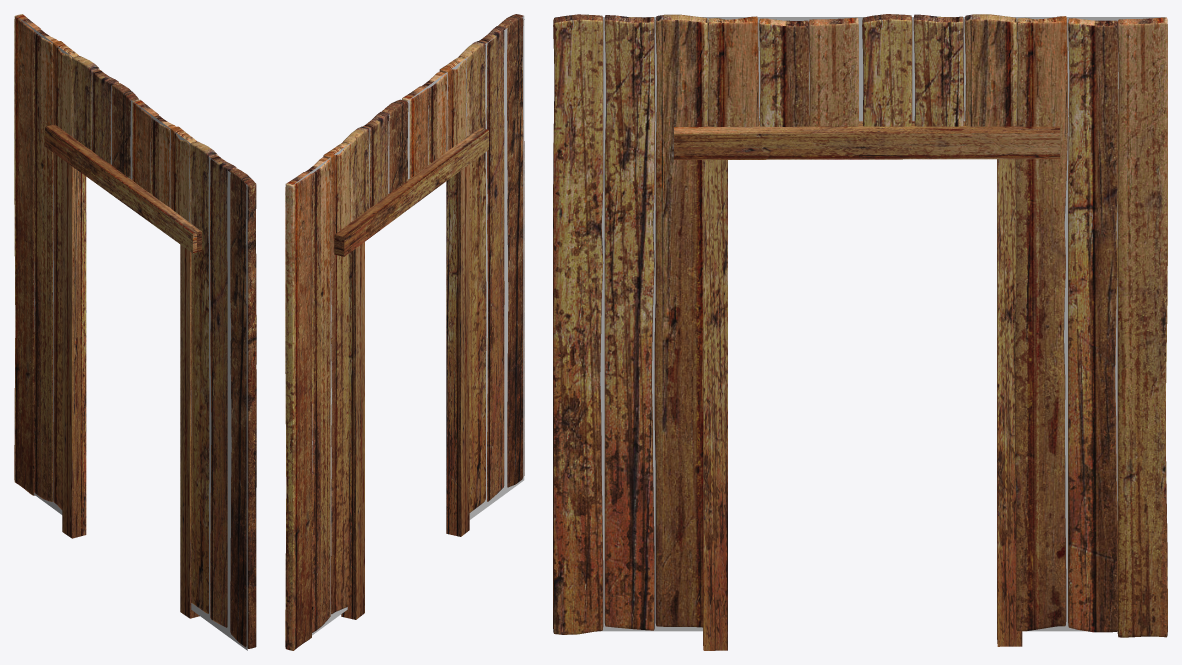
File: 木门框.FBX
3 views of the same model, side by side, from view 1: azimuth 30°, elevation 25°; view 2: azimuth 150°, elevation 25°; view 3: azimuth 270°, elevation 25° (orthographic). The views are drawn at different scales.
Visible parts, largest first — view 1: wood:wood:polySurface07, Object01; view 2: wood:wood:polySurface07, Object01; view 3: wood:wood:polySurface07, Object01.
Part boxes in pixels (bbox=[...]): wood:wood:polySurface07: bbox=[14, 14, 256, 648]; Object01: bbox=[16, 16, 247, 650]; wood:wood:polySurface07: bbox=[285, 14, 524, 650]; Object01: bbox=[293, 16, 524, 635]; wood:wood:polySurface07: bbox=[553, 14, 1167, 650]; Object01: bbox=[554, 17, 1164, 631].
Bounding box in the file's own units: 8.77 × 116 × 131.
